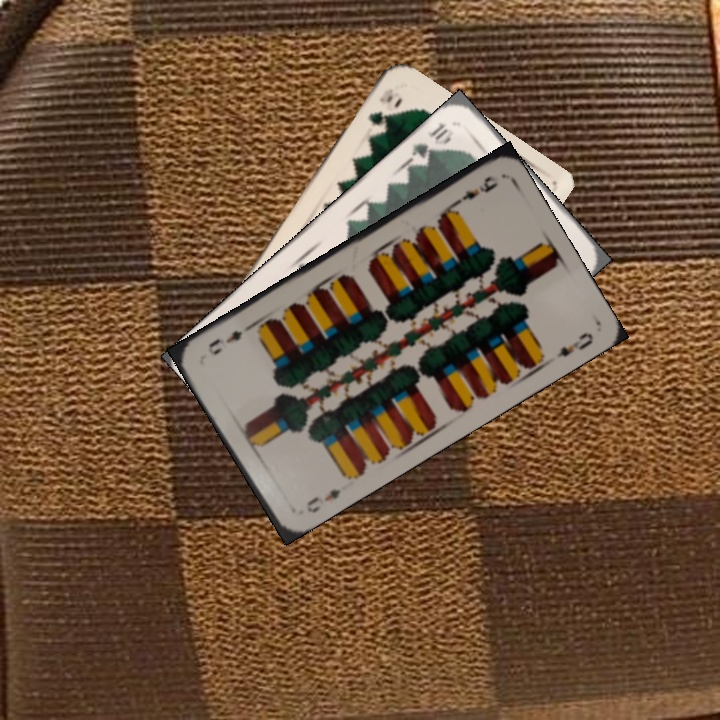E9: (448, 172, 502, 210), (302, 484, 343, 516)
G10: (407, 117, 454, 163), (364, 84, 397, 128)
